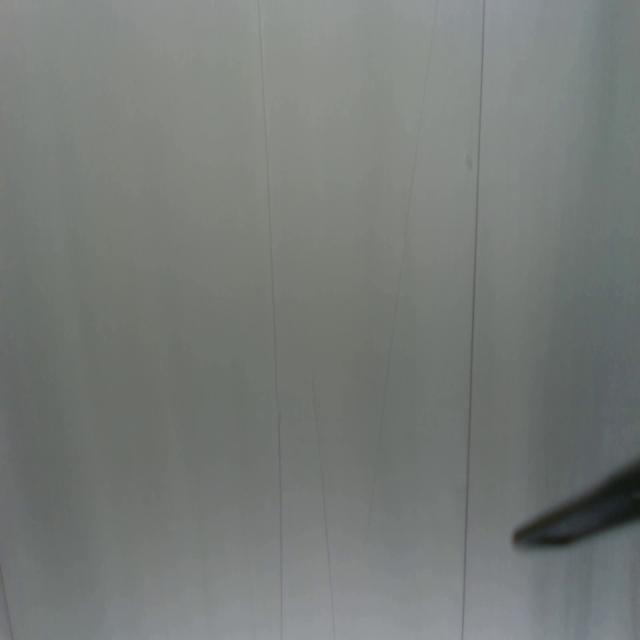crease: (351, 0, 440, 616), (253, 0, 287, 639), (457, 2, 488, 640), (306, 374, 339, 638)
hole: (463, 151, 474, 176)
